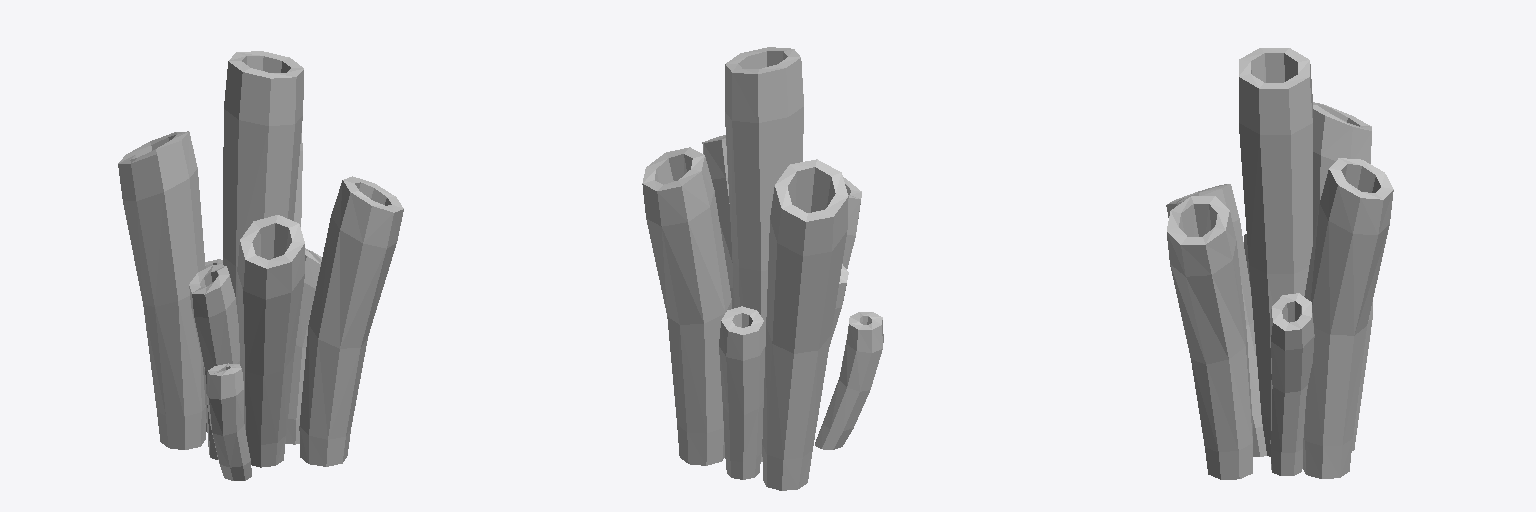
File: Coral_C_01_LOD1.obj
The picture shows the model from 3 angles: view 1: azimuth 30°, elevation 25°; view 2: azimuth 150°, elevation 25°; view 3: azimuth 270°, elevation 25°; orthographic projection.
Parts seen in each view (by area): view 1: Coral_C_01_LOD1_Cylinder.396; view 2: Coral_C_01_LOD1_Cylinder.396; view 3: Coral_C_01_LOD1_Cylinder.396.
Part boxes in pixels (bbox=[...]): Coral_C_01_LOD1_Cylinder.396: bbox=[118, 51, 403, 480]; Coral_C_01_LOD1_Cylinder.396: bbox=[642, 47, 883, 490]; Coral_C_01_LOD1_Cylinder.396: bbox=[1166, 48, 1393, 479].
Bounding box in the file's own units: 3.58 × 6.55 × 3.43.